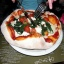basil: (41, 20, 53, 36), (12, 21, 24, 34), (28, 16, 40, 27)
pizza: (1, 10, 63, 48)
